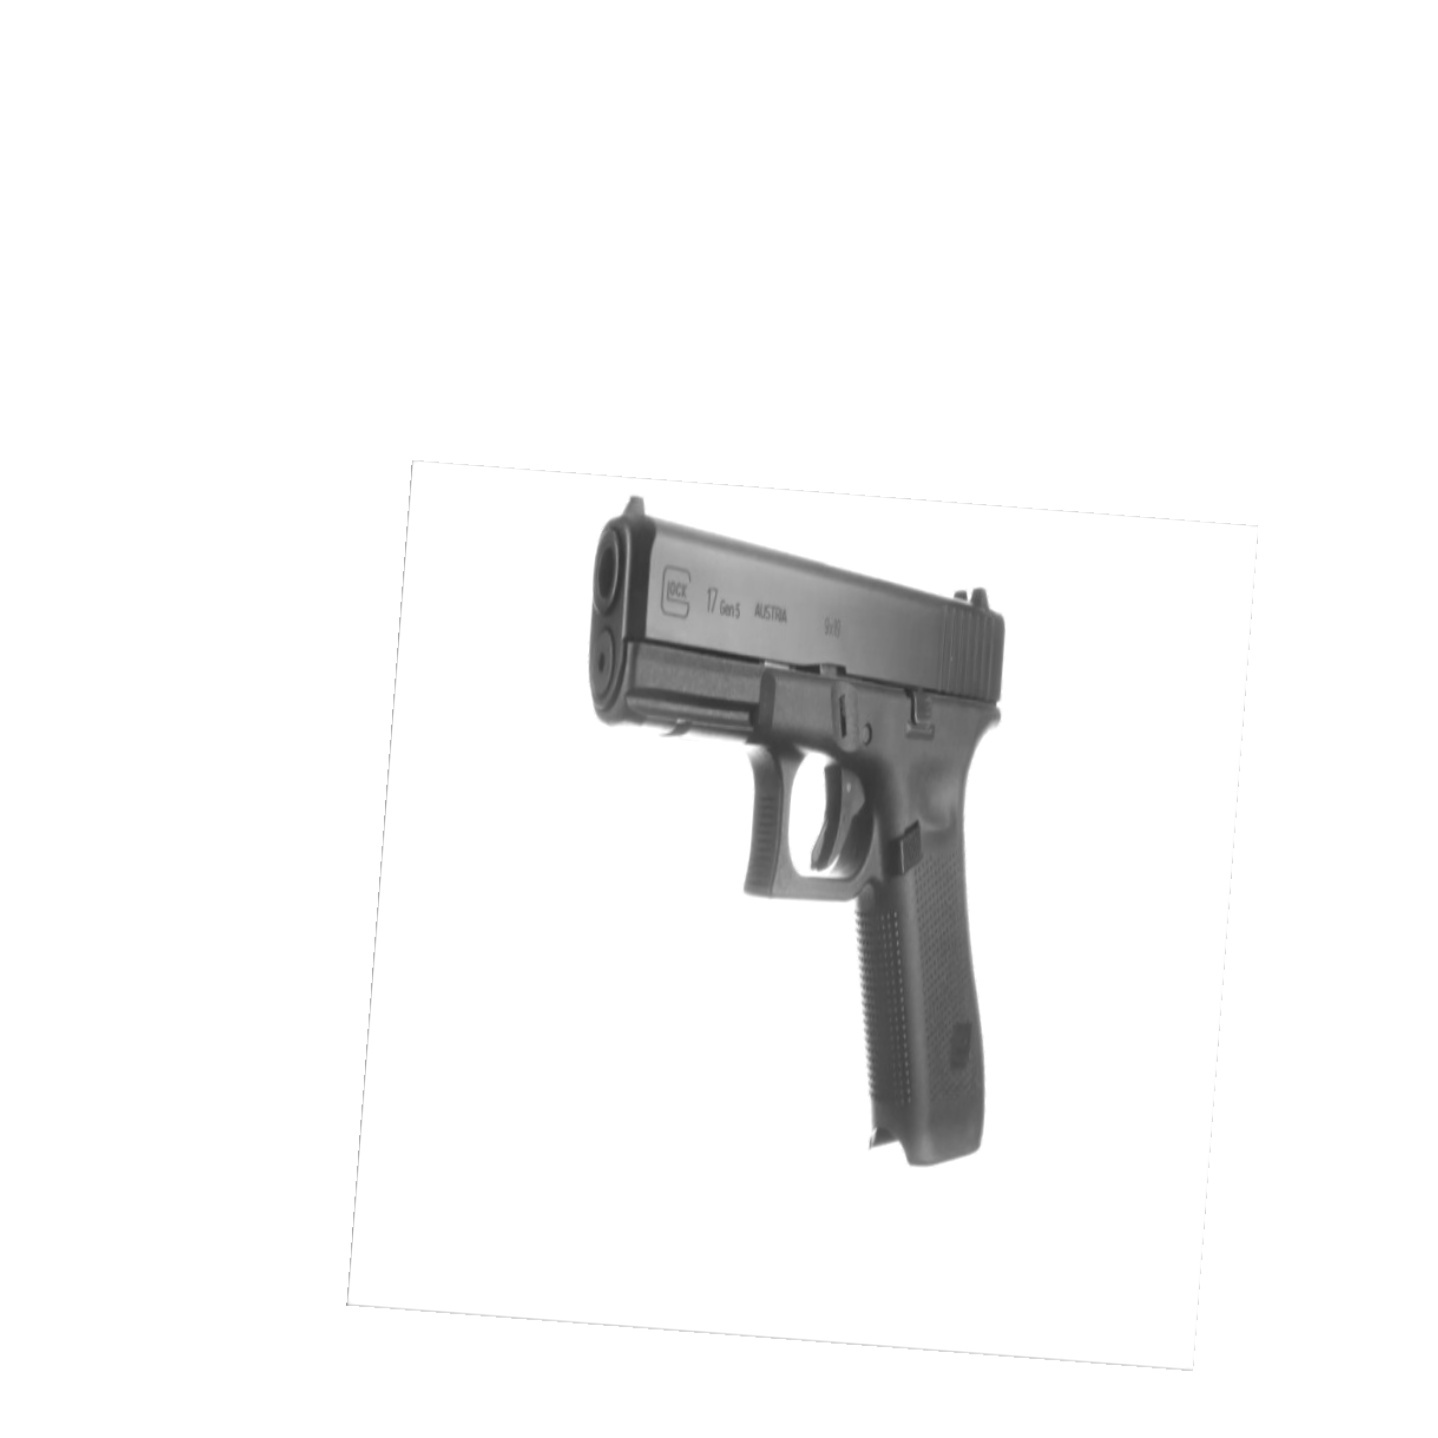gun: (557, 485, 1042, 1171)
